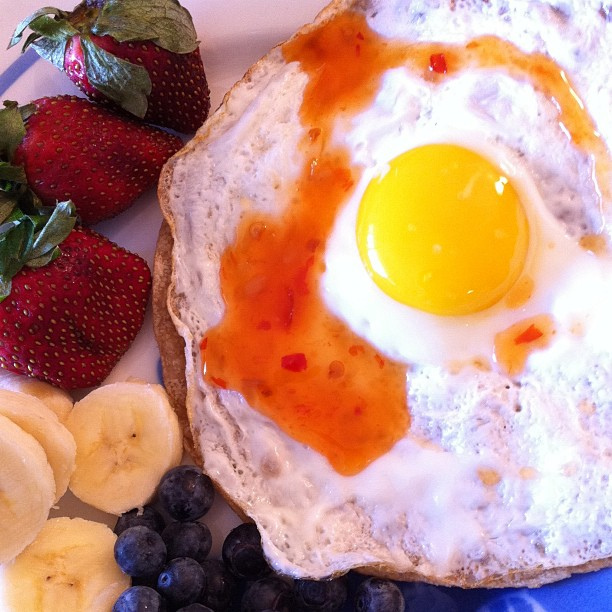fried egg: (174, 30, 612, 544)
